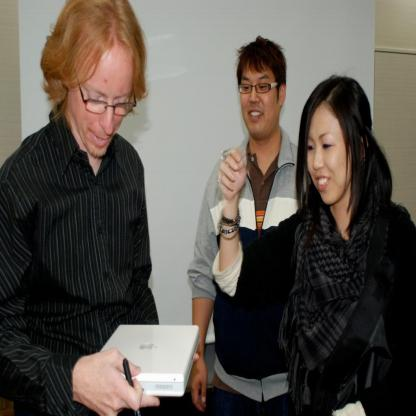board: (109, 310, 198, 407)
